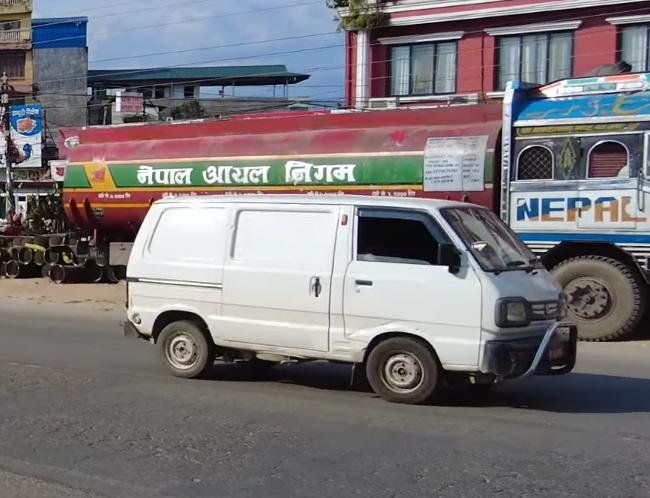van: (121, 194, 582, 407)
